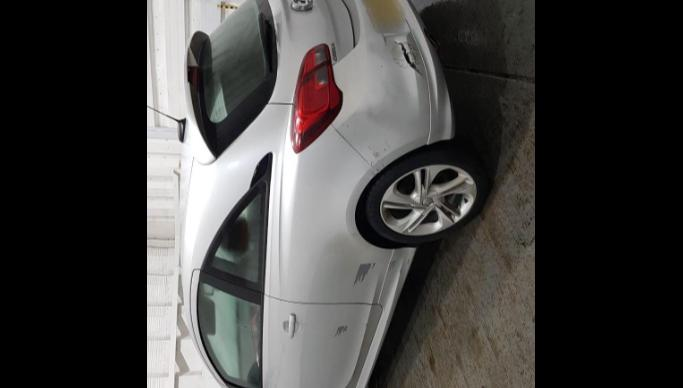Broken part: (394, 40, 423, 76)
Dent: (382, 22, 428, 70), (394, 247, 416, 282)
Paint chip: (354, 260, 378, 286), (391, 44, 410, 68), (403, 40, 420, 64), (334, 324, 350, 336), (371, 150, 382, 158), (390, 260, 396, 270), (367, 144, 374, 148), (375, 166, 380, 170), (407, 258, 411, 262), (366, 322, 370, 326), (386, 140, 390, 144), (371, 160, 374, 164), (346, 123, 350, 126), (383, 148, 386, 152), (382, 162, 384, 166), (342, 122, 344, 125), (354, 232, 356, 234), (382, 64, 383, 66), (390, 144, 390, 146)
